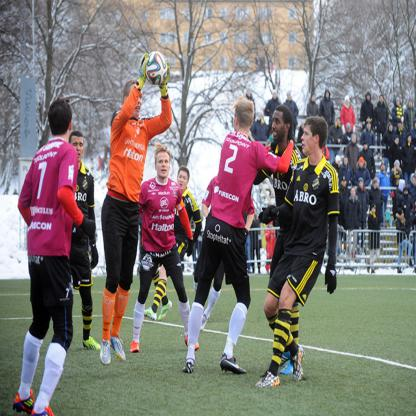Ball: (146, 51, 168, 86)
